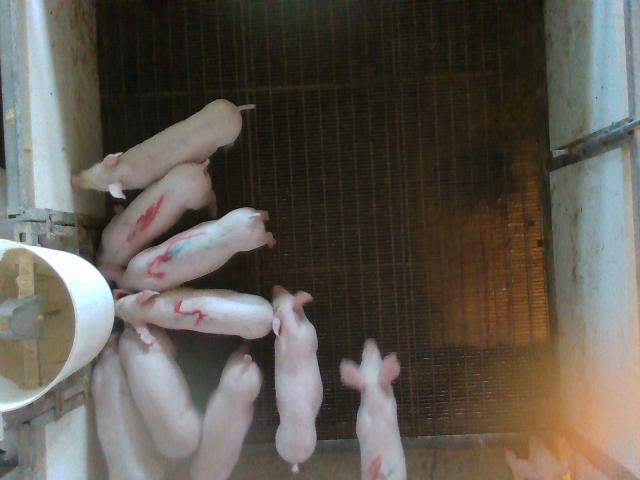pig-1: (99, 160, 216, 266)
pig-3: (99, 208, 275, 291)
pig-4: (340, 339, 406, 479)
pig-5: (115, 288, 272, 344)
